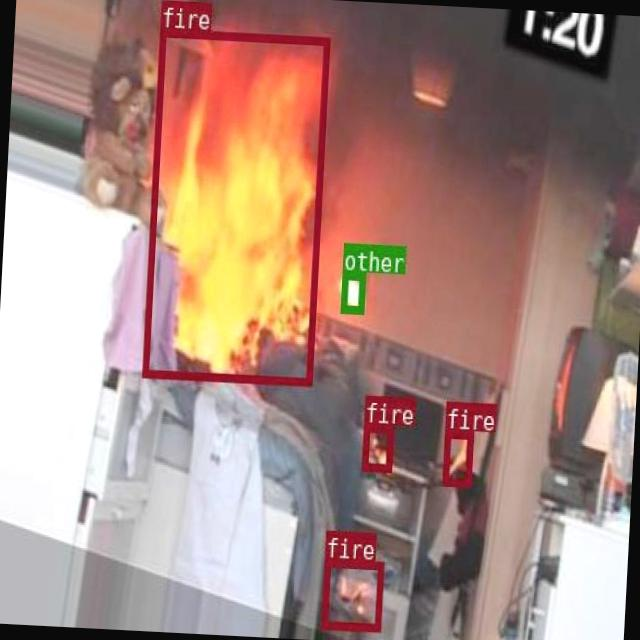fire: (141, 28, 330, 384), (320, 558, 383, 630), (442, 428, 473, 484), (361, 424, 392, 471)
